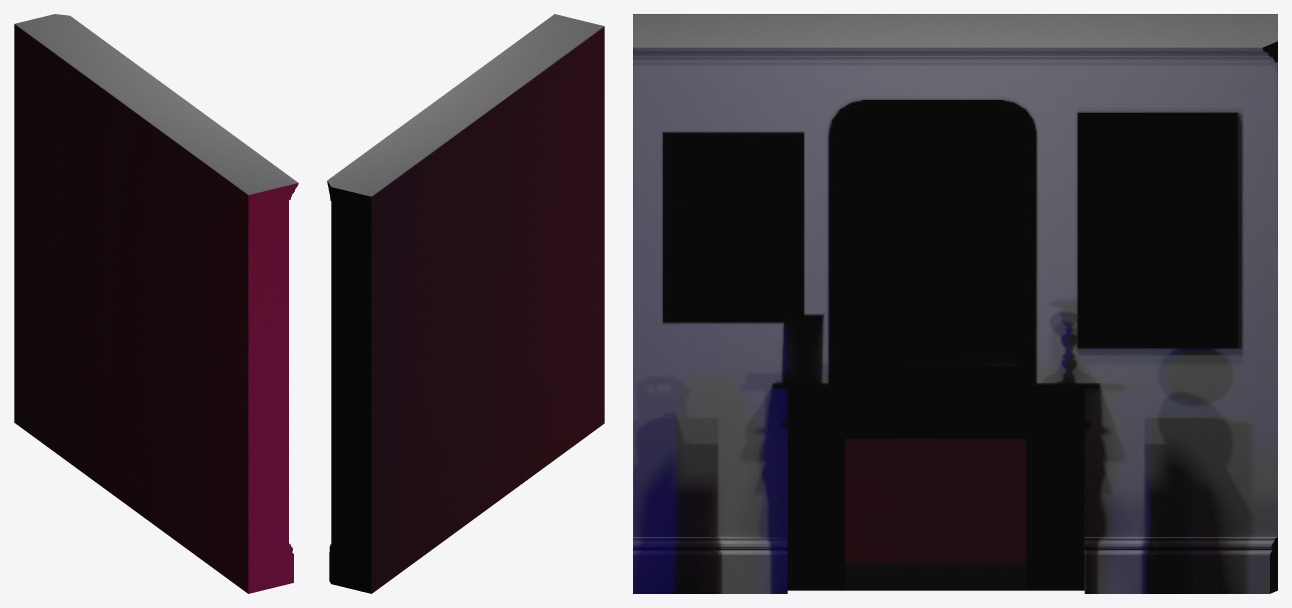
Rendered from wall_left.glb.
The picture shows the model from 3 angles, left to right: view 1: azimuth 30°, elevation 25°; view 2: azimuth 150°, elevation 25°; view 3: azimuth 270°, elevation 25°; orthographic projection. The views are drawn at different scales.
Parts seen in each view (by area): view 1: wall_left; view 2: wall_left; view 3: wall_left.
Part boxes in pixels (x1=…): wall_left: x1=14, y1=14, x2=298, y2=593; wall_left: x1=327, y1=14, x2=604, y2=593; wall_left: x1=633, y1=14, x2=1277, y2=593.
Size of the model in its own units: 2.48 by 18.8 by 20.
Materials: 2 (2 with a texture image).
